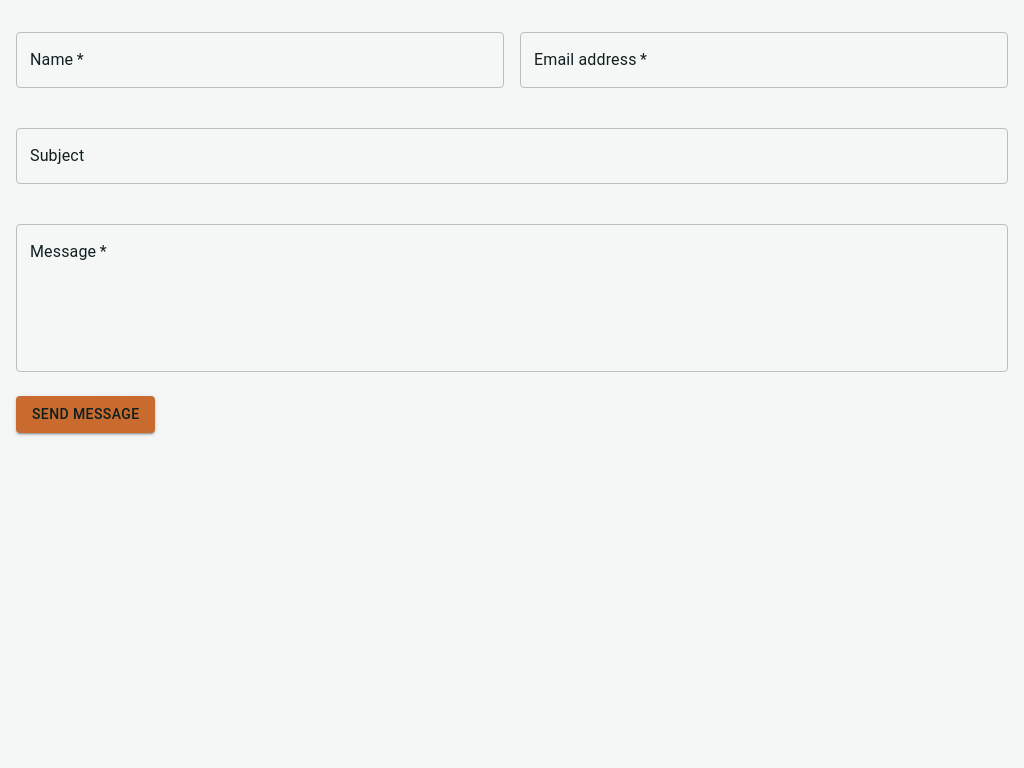
it: ContactMeForm › sends the message with the right template params and shows the confirmation dialog on valid submit
The width and height of the screenshot is (1024, 768).
Type "Jane Doe" into the field labelled "Name *".
click(260, 60); type("Jane Doe")  # box [16,32,504,88]
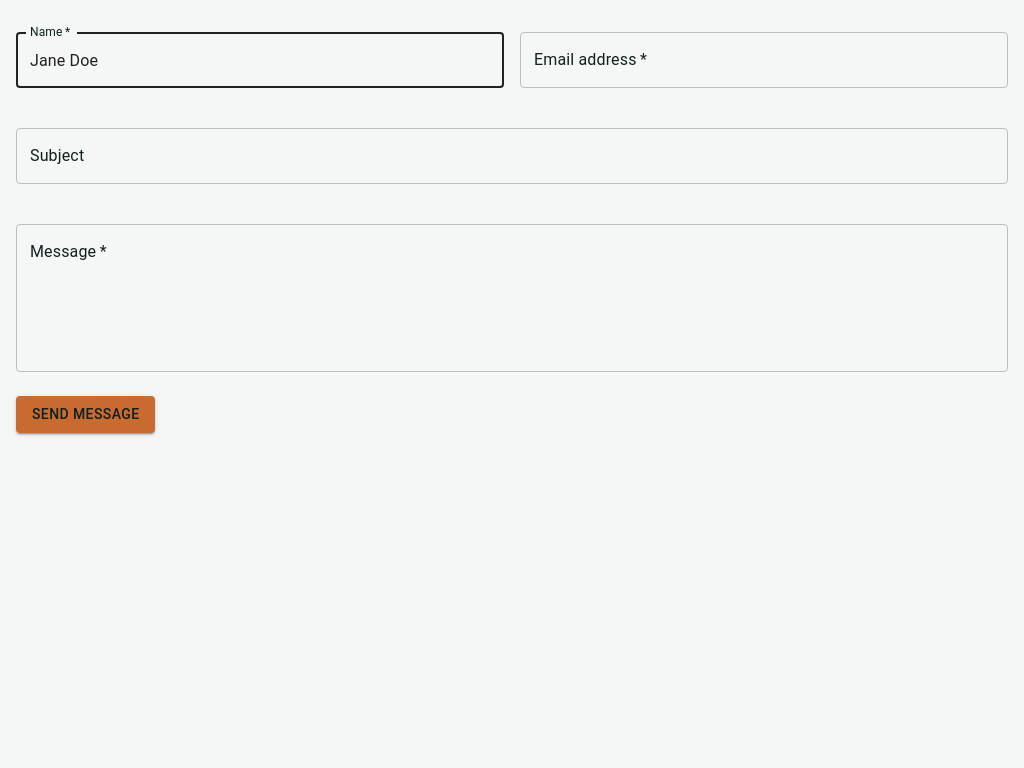
Type "jane@example.com" into the field labelled "Email address *".
click(764, 60); type("jane@example.com")  # box [520,32,1008,88]
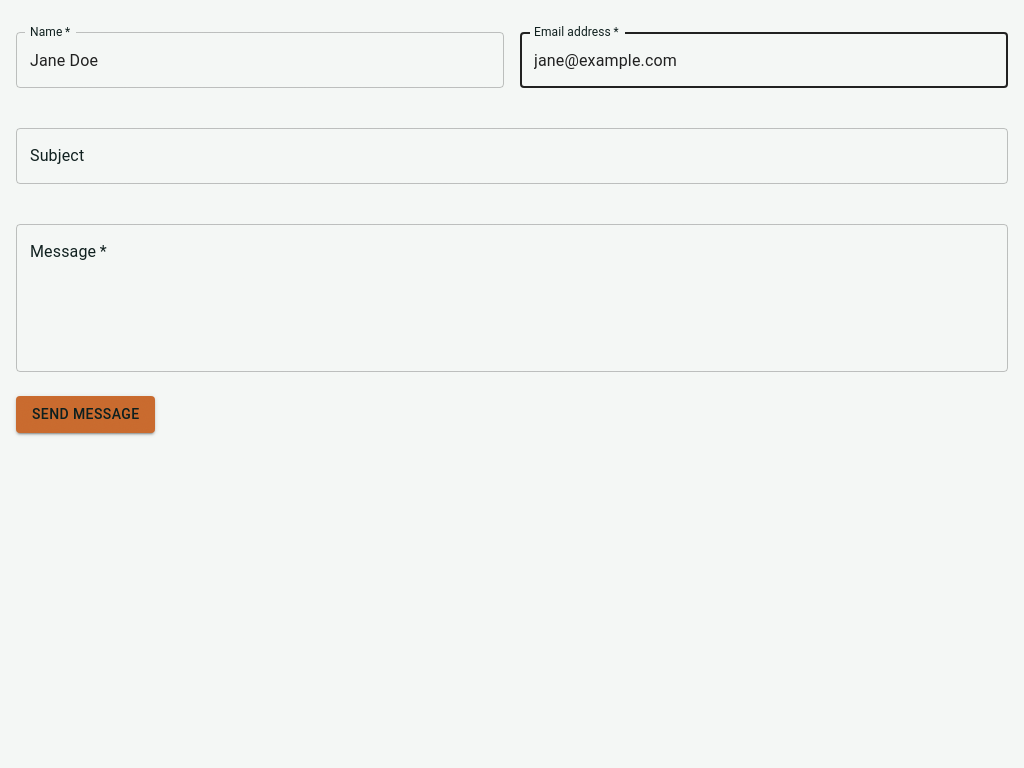
Type "Hello" into the field labelled "Subject".
click(512, 156); type("Hello")  # box [16,128,1008,184]
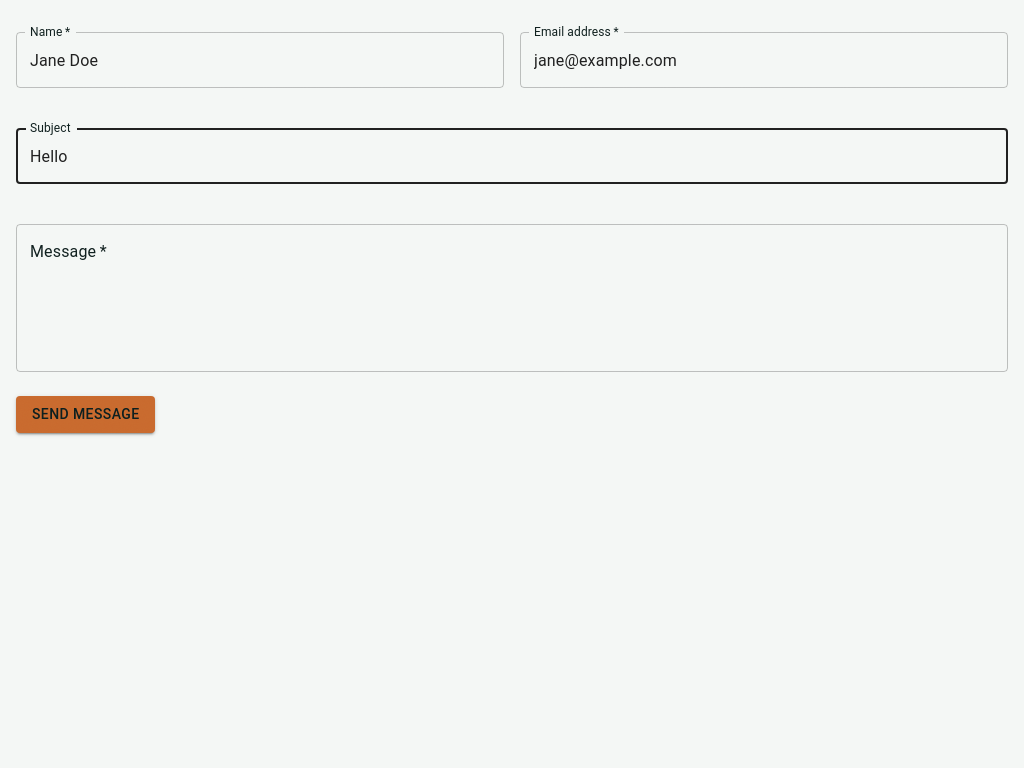
Type "This is a test message." into the text box labelled "Message *".
click(512, 298); type("This is a test message.")  # box [30,240,994,356]
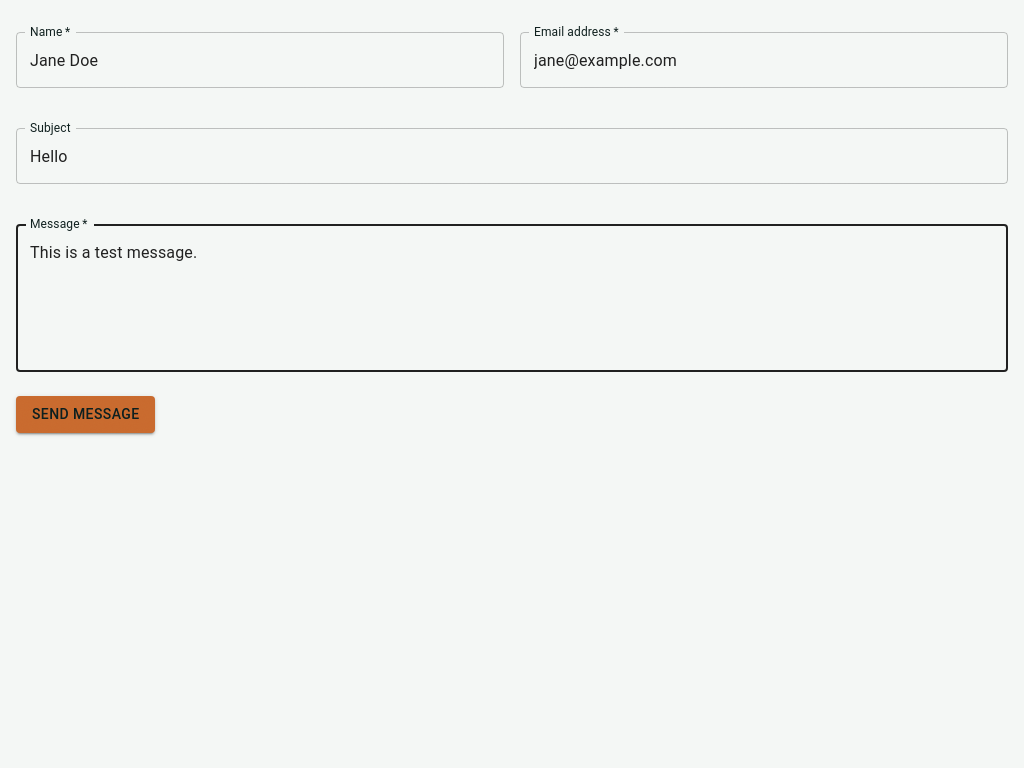
Click the button "Send message".
click(86, 414)  # box [16,396,156,432]
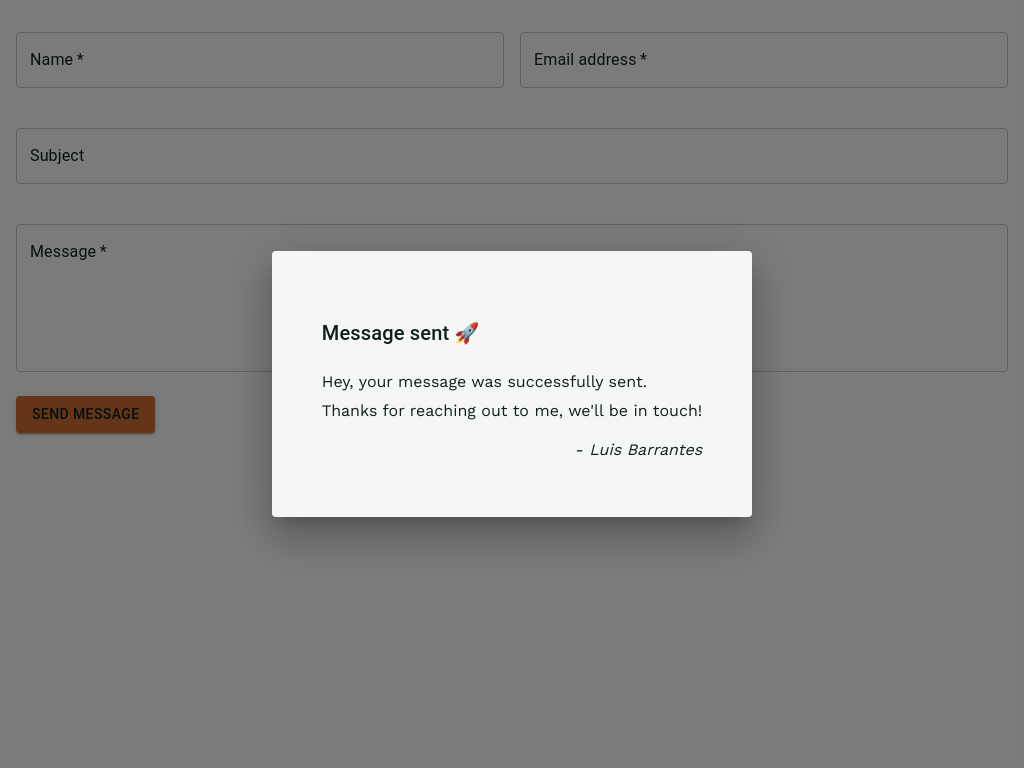
Result: the heading with id "dialog-title" shows "Message sent" at [322,321,480,345]
